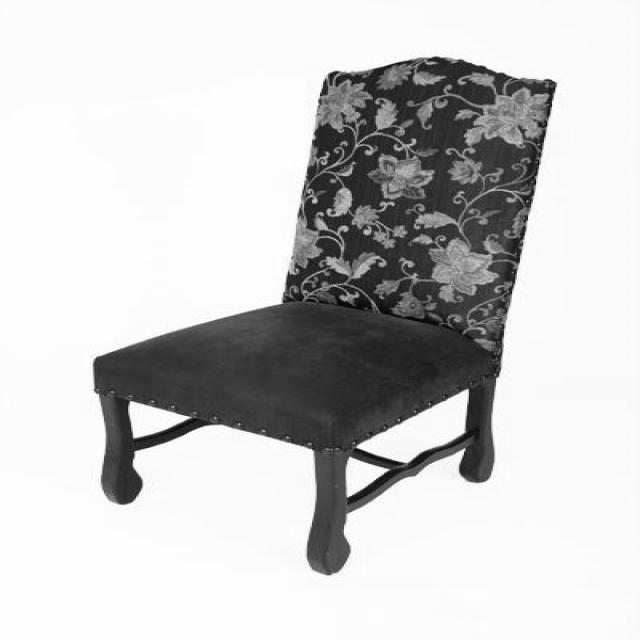chair: (96, 54, 575, 577)
